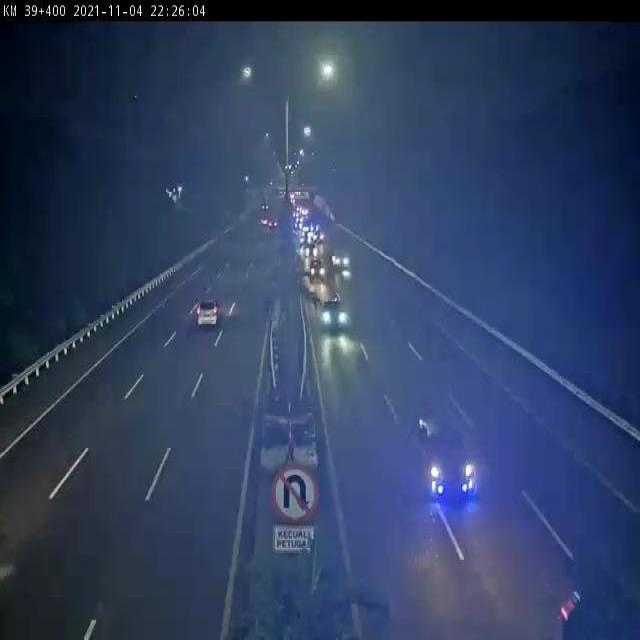car: (416, 416, 488, 513), (318, 292, 356, 341), (191, 298, 228, 334), (332, 244, 355, 264), (312, 259, 325, 281)
